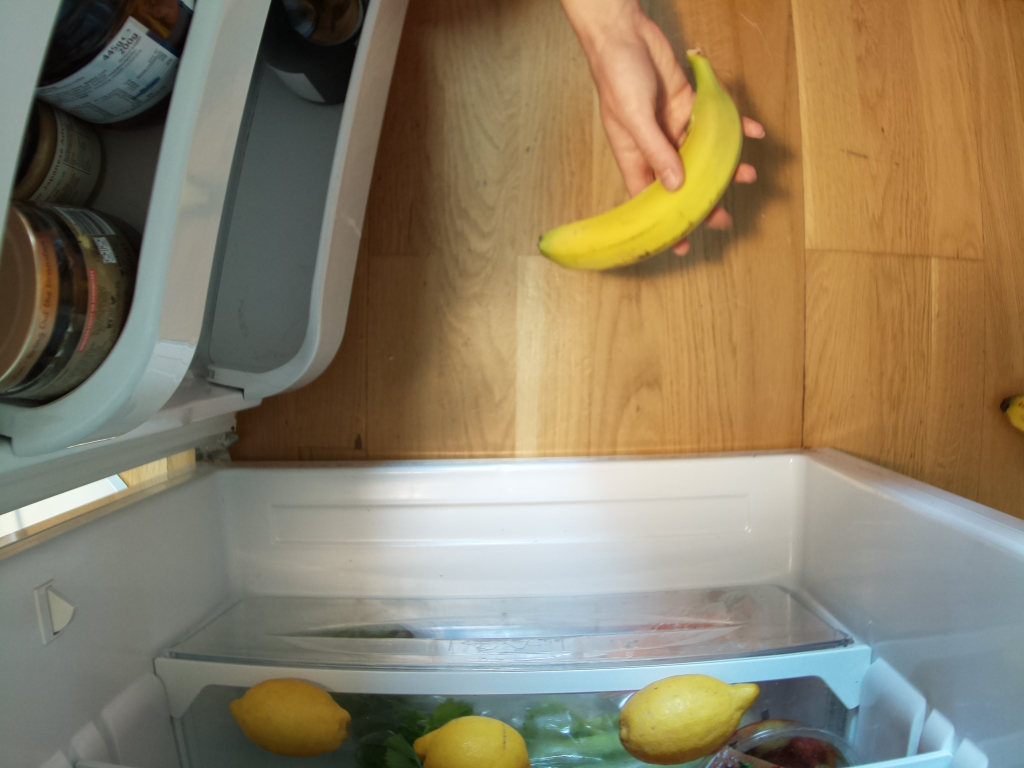banana: (540, 47, 747, 277)
